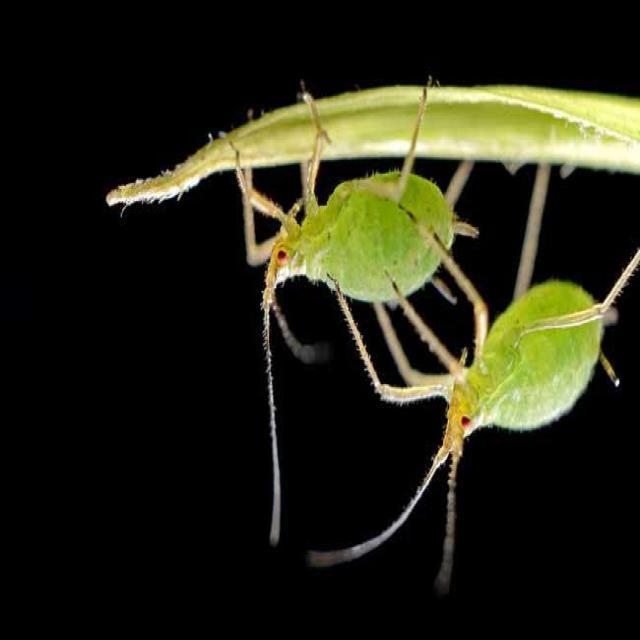aphid: (310, 236, 622, 570), (200, 131, 470, 349)
